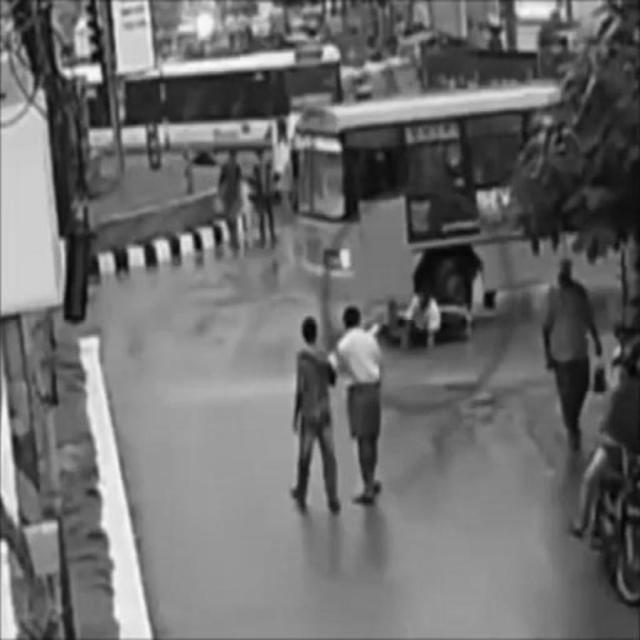accident: (290, 85, 624, 349)
person: (538, 255, 605, 463), (326, 305, 394, 507), (279, 317, 337, 519)
vehicle: (139, 51, 350, 195)
